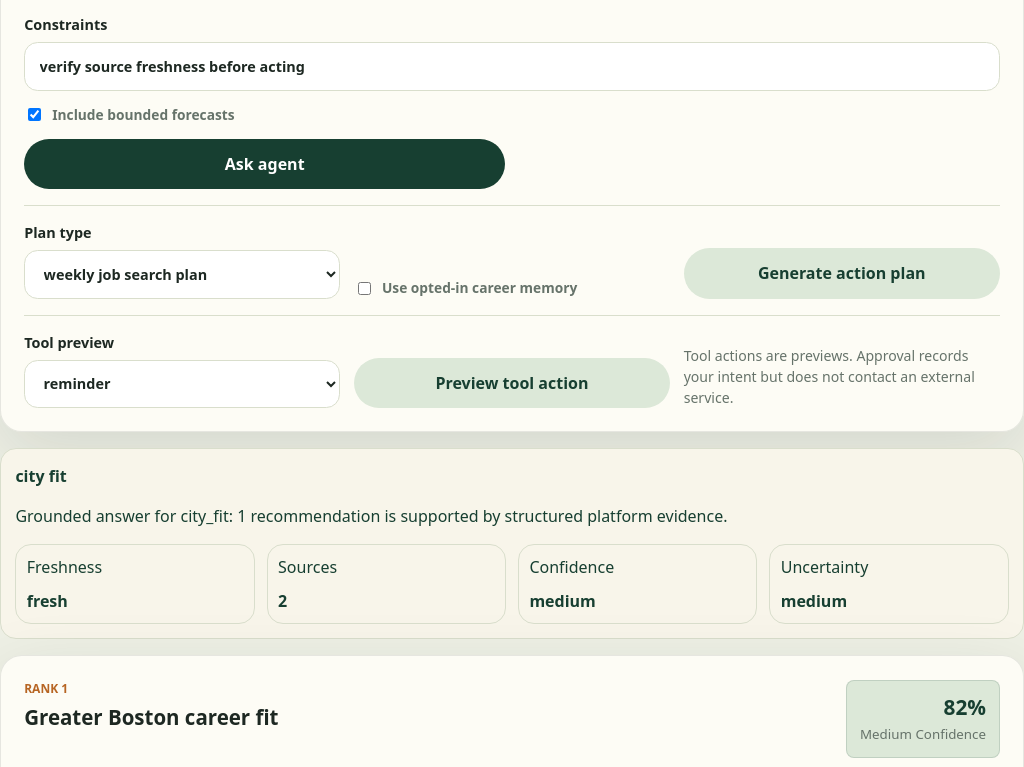
Test case: CareerAgentPage › tool preview renders action summary, approval status, evidence, freshness, warnings, and uncertainty
(page scrolled)
Expected: the heading "Greater Boston career fit" is shown, x1=24 y1=706 x2=278 y2=728
Click the button "Preview tool action": (512, 383) x1=354 y1=358 x2=670 y2=408
(page scrolled)
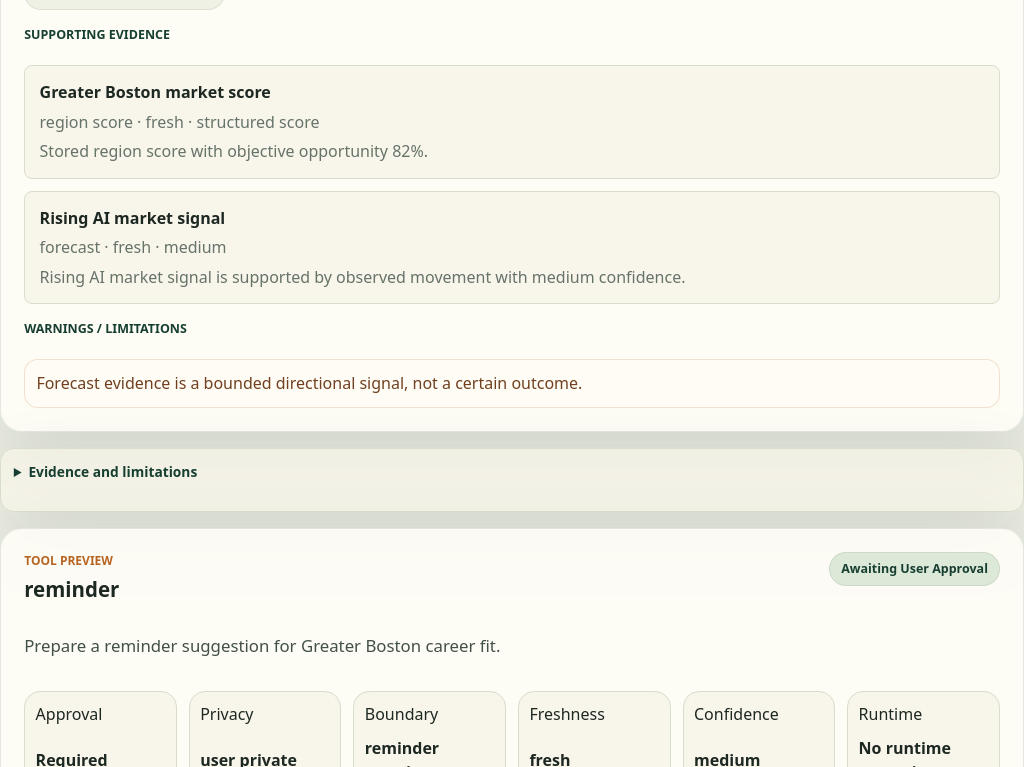
Expected: the text "Greater Boston market score" is shown, x1=40 y1=81 x2=271 y2=103
Result: the text "Prepare a reminder suggestion for Greater Boston career fit." is shown at x1=24 y1=634 x2=500 y2=657
